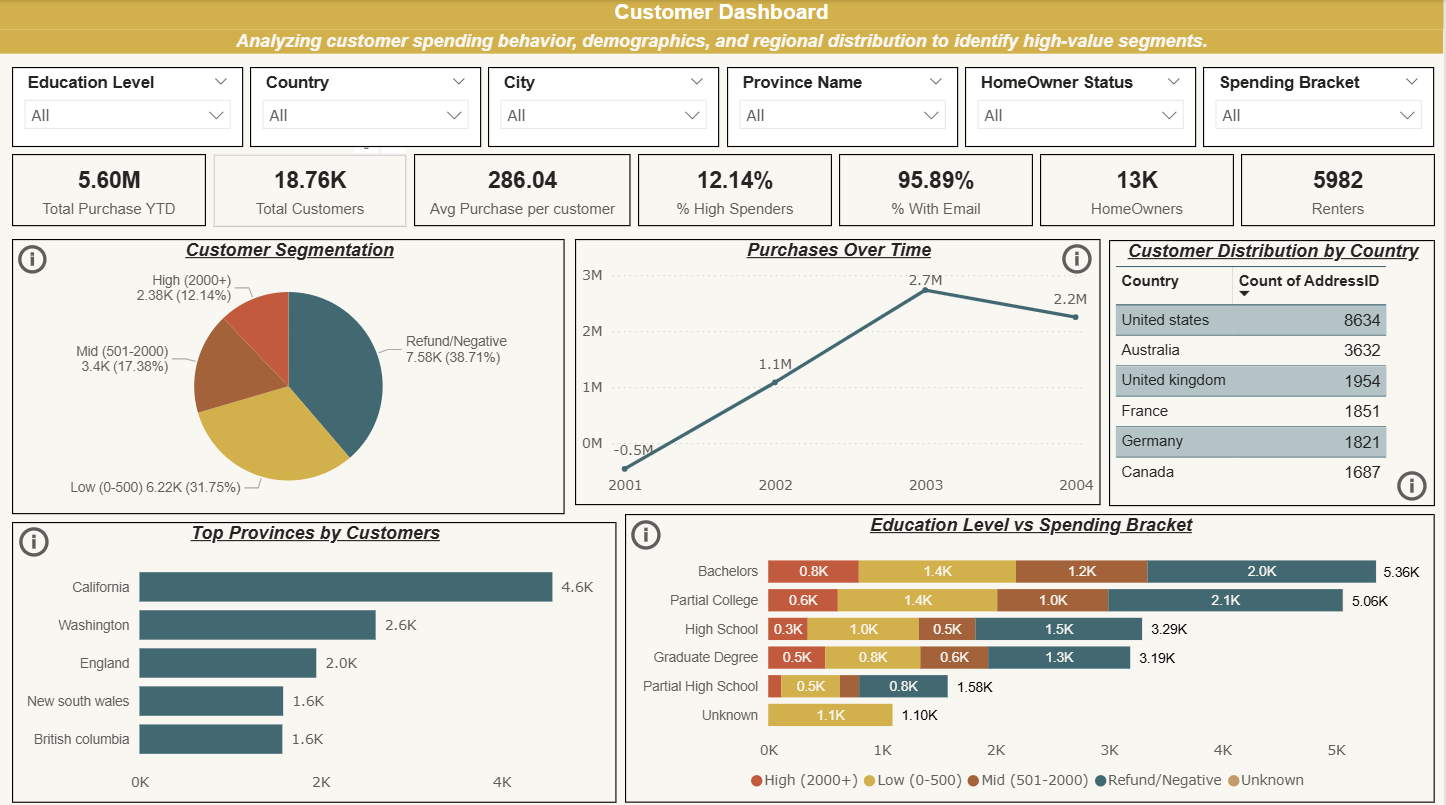

This screenshot's page, from the dashboard's own definition file:
{"tool":"powerbi","page":{"name":"Customer","canvas":[1280,720],"ordinal":3},"visuals":[{"type":"card","fields":{"Values":["Sum(customer_info.TotalPurchaseYTD)"]},"box":[10.6,136.6,172,63.8],"z":0},{"type":"card","fields":{"Values":["Count(customer_info.FullName)"]},"box":[188.9,136.6,172,63.8],"z":1000},{"type":"card","fields":{"Values":["Avg(customer_info.TotalPurchaseYTD)"]},"box":[367.1,136.6,192.4,63.8],"z":2000},{"type":"card","fields":{"Values":["customer_info.% High Spenders"]},"box":[565.7,136.6,172,63.8],"z":3000},{"type":"card","fields":{"Values":["customer_info.% With Email"]},"box":[743.9,136.6,172,63.8],"z":4000},{"type":"card","fields":{"Values":["customer_info.HomeOwners"]},"box":[922.2,136.6,172,63.8],"z":5000},{"type":"card","fields":{"Values":["customer_info.Renters"]},"box":[1100.4,136.6,172,63.8],"z":6000},{"type":"pieChart","title":"Customer Segmentation","fields":{"Category":["customer_info.SpendingBracket"],"Y":["Count(customer_info.AddressID)"]},"box":[10.7,212,490.2,244.1],"z":7000},{"type":"barChart","title":"Top Provinces by Customers","fields":{"Category":["customer_info.ProvinceName"],"Y":["CountNonNull(customer_info.FullName)"]},"box":[10.7,463,535.9,249],"z":8000},{"type":"lineChart","title":"Purchases Over Time","fields":{"Y":["Sum(customer_info.TotalPurchaseYTD)"],"Category":["customer_info.FirstPurchaseYear"]},"box":[509.7,212,465.9,236.4],"z":9000},{"type":"barChart","title":"Education Level vs Spending Bracket","fields":{"Category":["customer_info.EducationLevel"],"Series":["customer_info.SpendingBracket"],"Y":["CountNonNull(customer_info.FullName)"]},"box":[554.4,456.2,717.8,255.8],"z":10000},{"type":"pivotTable","title":"Customer Distribution by Country","fields":{"Rows":["customer_info.Country"],"Values":["CountNonNull(customer_info.AddressID)"]},"box":[983.3,213,288.9,236.4],"z":11000},{"type":"shape","title":"Customer Dashboard","box":[0,0,1279.6,47.6],"z":12000},{"type":"slicer","fields":{"Values":["customer_info.EducationLevel"]},"box":[10.6,59.4,204.8,70.9],"z":13000},{"type":"slicer","fields":{"Values":["customer_info.Country"]},"box":[221.9,59.4,204.8,70.9],"z":14000},{"type":"slicer","fields":{"Values":["customer_info.City"]},"box":[433.1,59.4,204.8,70.9],"z":15000},{"type":"slicer","fields":{"Values":["customer_info.ProvinceName"]},"box":[644.3,59.4,204.8,70.9],"z":16000},{"type":"slicer","fields":{"Values":["customer_info.HomeOwnerStatus"]},"box":[855.5,59.4,204.8,70.9],"z":17000},{"type":"slicer","fields":{"Values":["customer_info.SpendingBracket"]},"box":[1066.7,59.4,204.8,70.9],"z":18000},{"type":"actionButton","box":[11.1,213.2,40.4,34.3],"z":19000},{"type":"actionButton","box":[937.5,212.2,37.4,35.4],"z":20000},{"type":"actionButton","box":[1234.5,413.2,37.4,35.4],"z":21000},{"type":"actionButton","box":[12.1,462.7,37.4,35.4],"z":22000},{"type":"actionButton","box":[554.6,456.6,37.4,35.4],"z":23000}]}

Visuals, with their boxes in screenshot pixels (x1, y1, x2, y2), scaled from the page's 1280x720 canvas onto the 1446x805 screenshot:
card - Sum(customer_info.TotalPurchaseYTD): l=12, t=153, r=206, b=224
card - Count(customer_info.FullName): l=213, t=153, r=408, b=224
card - Avg(customer_info.TotalPurchaseYTD): l=415, t=153, r=632, b=224
card - customer_info.% High Spenders: l=639, t=153, r=833, b=224
card - customer_info.% With Email: l=840, t=153, r=1035, b=224
card - customer_info.HomeOwners: l=1042, t=153, r=1236, b=224
card - customer_info.Renters: l=1243, t=153, r=1437, b=224
"Customer Segmentation" pieChart: l=12, t=237, r=566, b=510
"Top Provinces by Customers" barChart: l=12, t=518, r=617, b=796
"Purchases Over Time" lineChart: l=576, t=237, r=1102, b=501
"Education Level vs Spending Bracket" barChart: l=626, t=510, r=1437, b=796
"Customer Distribution by Country" pivotTable: l=1111, t=238, r=1437, b=502
"Customer Dashboard" shape: l=0, t=0, r=1445, b=53
slicer - customer_info.EducationLevel: l=12, t=66, r=243, b=146
slicer - customer_info.Country: l=251, t=66, r=482, b=146
slicer - customer_info.City: l=489, t=66, r=721, b=146
slicer - customer_info.ProvinceName: l=728, t=66, r=959, b=146
slicer - customer_info.HomeOwnerStatus: l=966, t=66, r=1198, b=146
slicer - customer_info.SpendingBracket: l=1205, t=66, r=1436, b=146
actionButton: l=13, t=238, r=58, b=277
actionButton: l=1059, t=237, r=1101, b=277
actionButton: l=1395, t=462, r=1437, b=502
actionButton: l=14, t=517, r=56, b=557
actionButton: l=627, t=511, r=669, b=550
